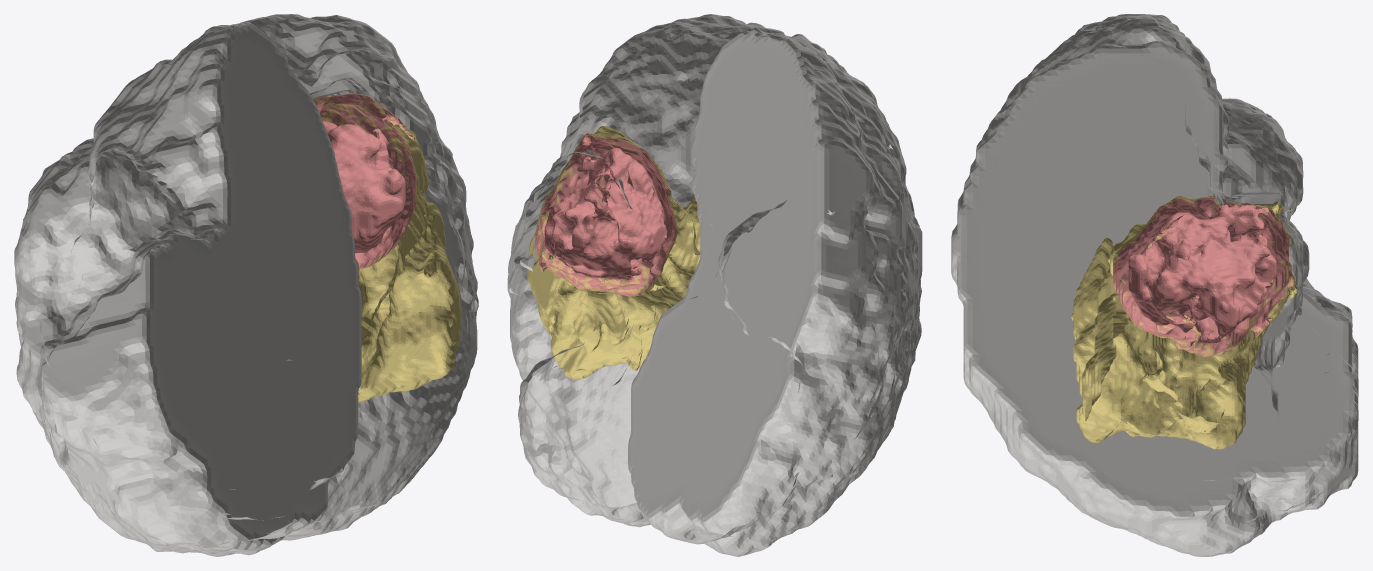
3 views of the same model, side by side, from view 1: azimuth 30°, elevation 25°; view 2: azimuth 150°, elevation 25°; view 3: azimuth 270°, elevation 25° (orthographic). The views are drawn at different scales.
Parts seen in each view (by area): view 1: brain_left, brain_right, edema, enhancing, core; view 2: brain_left, brain_right, enhancing, edema, core; view 3: brain_right, edema, enhancing, brain_left, core.
Boxes of the visible parts, x1,y1,x2,y2 form: brain_left: (14, 21, 361, 556); brain_right: (240, 14, 478, 540); edema: (316, 93, 461, 402); enhancing: (314, 94, 416, 268); core: (313, 94, 416, 269); brain_left: (628, 27, 922, 556); brain_right: (507, 14, 784, 527); enhancing: (535, 133, 677, 296); edema: (527, 126, 700, 379); core: (535, 133, 676, 296); brain_right: (951, 41, 1358, 556); edema: (1071, 196, 1298, 449); enhancing: (1113, 197, 1294, 357); brain_left: (957, 14, 1358, 395); core: (1113, 196, 1294, 356).
Bounding box in the file's own units: 136 × 176 × 132.
